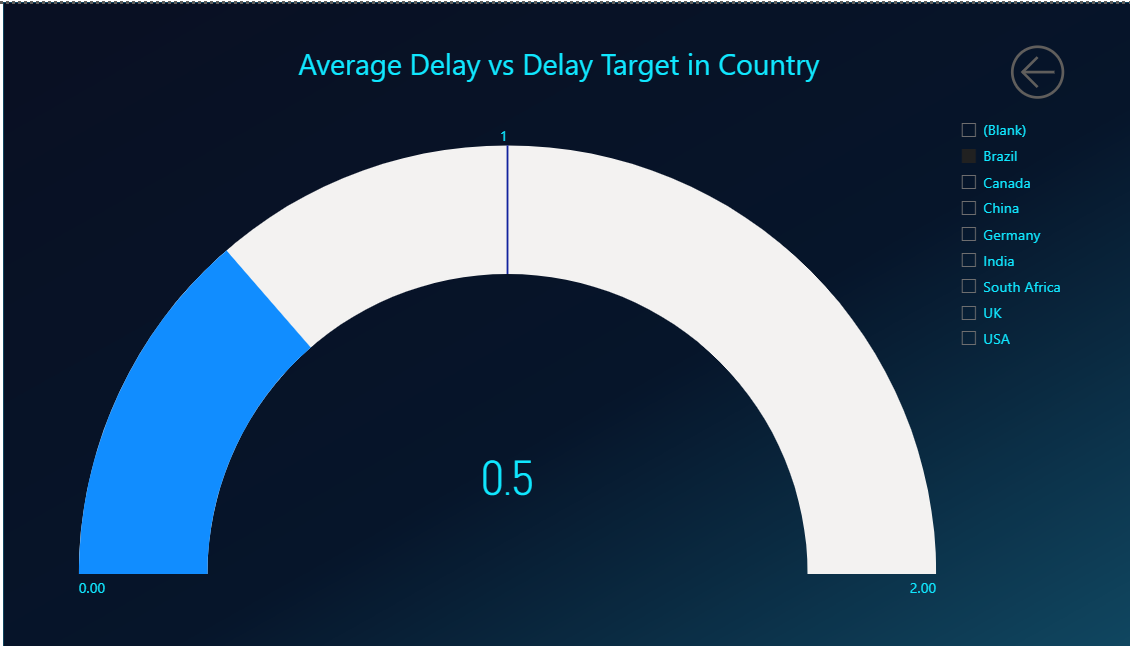

This screenshot's page, from the dashboard's own definition file:
{"tool":"powerbi","page":{"name":"Guage","canvas":[1280,720],"ordinal":2},"visuals":[{"type":"gauge","fields":{"TargetValue":["Supply Chain.Delay Target"],"Y":["Supply Chain.Avg Delay"]},"box":[107.5,120,962.7,549.9],"z":0},{"type":"slicer","fields":{"Values":["Supply Chain.Country"]},"box":[1079.6,119.8,200.4,303.5],"z":1000},{"type":"textbox","box":[20.6,38.3,1250.5,58],"z":2000},{"type":"actionButton","box":[1140.5,38.3,130.7,74.7],"z":3000}]}

Visuals, with their boxes in screenshot pixels (x1, y1, x2, y2), scaled from the page's 1280x720 canvas onto the 1130x646 screenshot:
gauge - Supply Chain.Delay Target x Supply Chain.Avg Delay: {"left": 95, "top": 108, "right": 945, "bottom": 601}
slicer - Supply Chain.Country: {"left": 953, "top": 107, "right": 1129, "bottom": 380}
textbox: {"left": 18, "top": 34, "right": 1122, "bottom": 86}
actionButton: {"left": 1007, "top": 34, "right": 1122, "bottom": 101}
